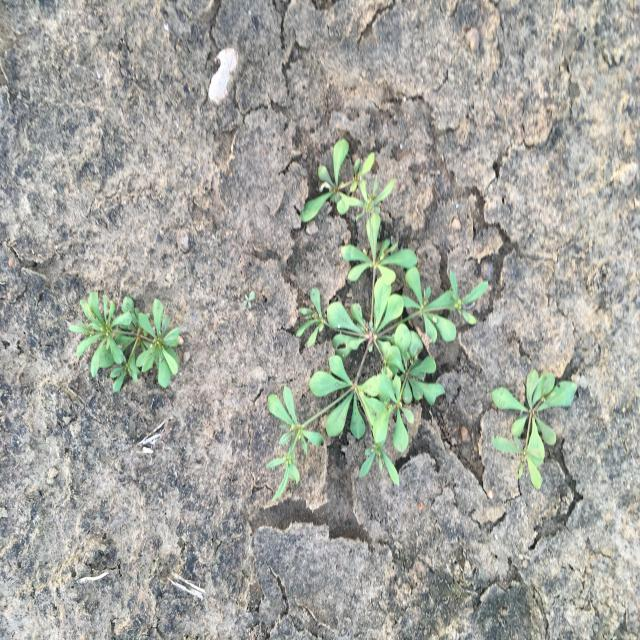Carpetweed: (265, 138, 490, 502), (66, 289, 183, 395), (491, 367, 578, 493)
